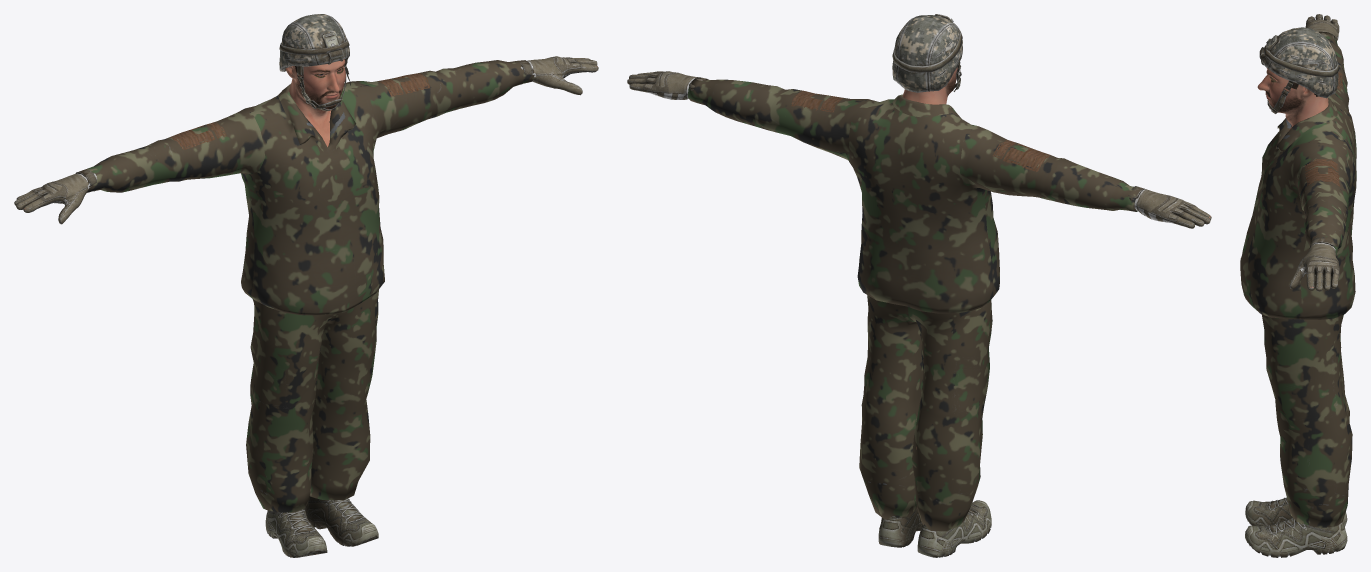
File: Army man.obj
3 renders of one model, left to right at view 1: azimuth 30°, elevation 25°; view 2: azimuth 150°, elevation 25°; view 3: azimuth 270°, elevation 25°, orthographic. The views are drawn at different scales.
Parts seen in each view (by area): view 1: Tops, Bottoms, Shoes, Gloves, Hats, Body; view 2: Tops, Bottoms, Hats, Gloves, Shoes, Body; view 3: Tops, Bottoms, Hats, Shoes, Gloves, Body.
Boxes of the visible parts, <box> form: Tops: <box>75,60,534,315</box>; Bottoms: <box>246,290,378,512</box>; Shoes: <box>265,496,378,557</box>; Gloves: <box>14,56,598,224</box>; Hats: <box>279,14,350,111</box>; Body: <box>23,59,597,555</box>; Tops: <box>688,77,1146,313</box>; Bottoms: <box>859,295,992,531</box>; Hats: <box>892,14,962,92</box>; Gloves: <box>627,71,1211,228</box>; Shoes: <box>878,500,991,557</box>; Body: <box>902,67,1210,449</box>; Tops: <box>1240,31,1356,319</box>; Bottoms: <box>1261,314,1352,527</box>; Hats: <box>1259,27,1339,113</box>; Shoes: <box>1245,497,1347,557</box>; Gloves: <box>1289,14,1339,291</box>; Body: <box>1257,68,1328,287</box>.
Size of the model in its own units: 213 by 182 by 38.03.
Materials: 7 (7 with a texture image).
